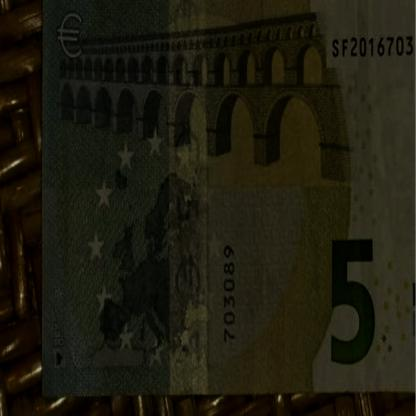euro_banknote: (33, 12, 416, 385)
